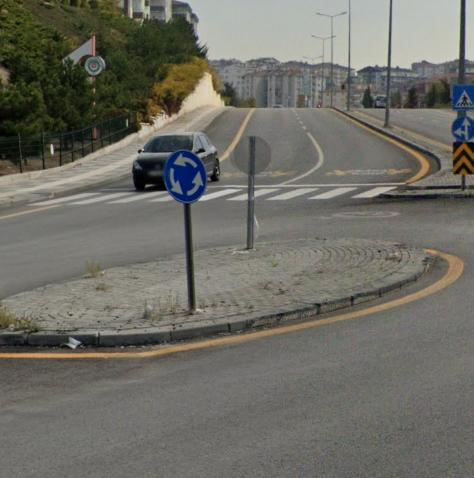crossroads: (162, 152, 207, 204)
